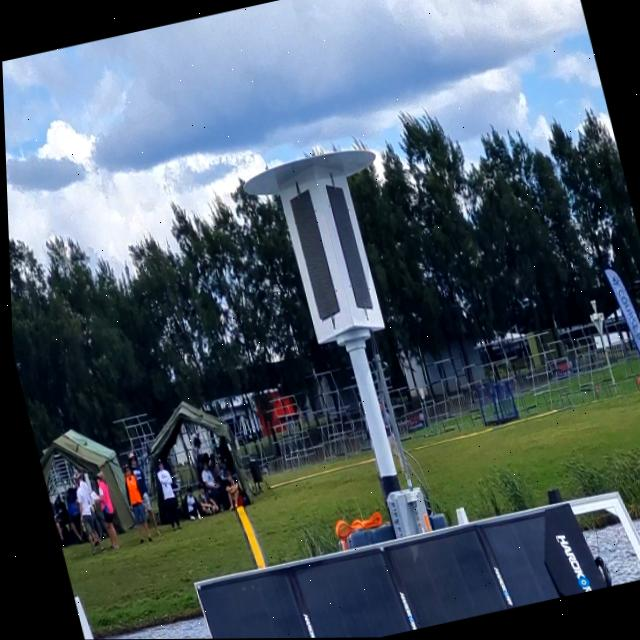led: (279, 179, 348, 332), (315, 167, 379, 327)
